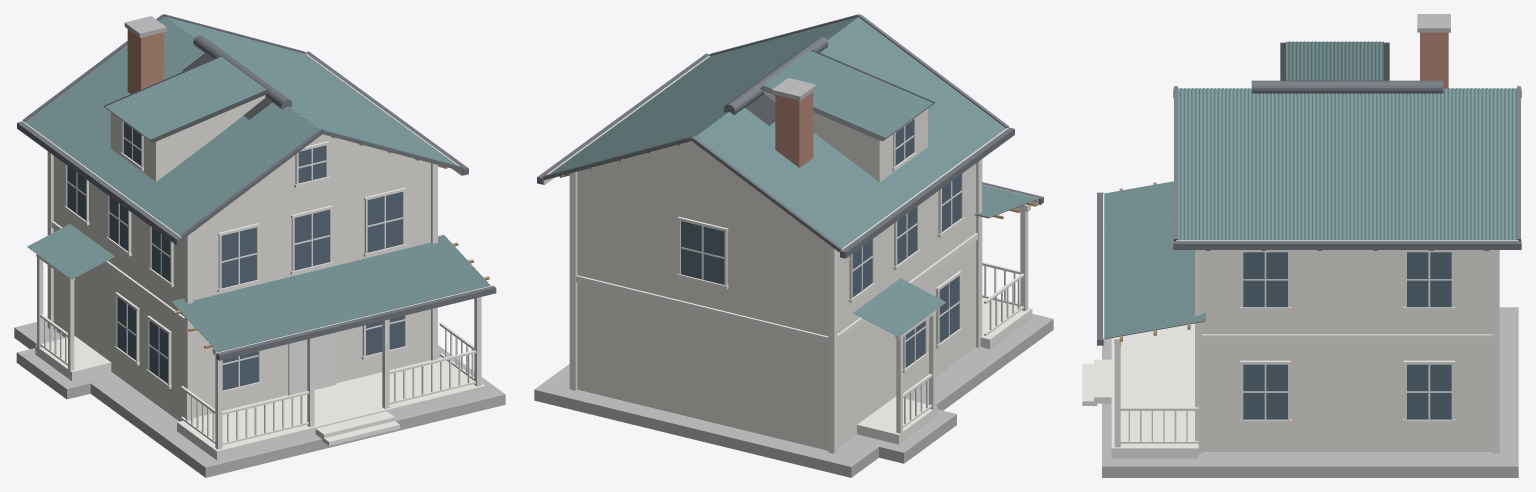
Rendered from Agua_Corr_1220_Compact_Porch_House.glb.
3 renders of one model, left to right at view 1: azimuth 30°, elevation 25°; view 2: azimuth 150°, elevation 25°; view 3: azimuth 270°, elevation 25°, orthographic. The views are drawn at different scales.
Visible parts, largest first — view 1: Main_Walls, Porch_Deck_Front, Foundation_Main, RoofSheet_13, RoofSheet_14, Gable_Wall_Front, RoofSheet_08, RoofSheet_16, RoofSheet_15, RoofSheet_09, Gutter_Porch, Dormer_Cheek_Front (+56 smaller); view 2: Main_Walls, Foundation_Main, Gable_Wall_Back, RoofSheet_14, RoofSheet_08, RoofSheet_09, RoofSheet_16, RoofSheet_15, SecondFloor_BandTrim, RoofSheet_13, RoofSheet_10, Base_Chimney (+39 smaller); view 3: Main_Walls, Foundation_Main, Porch_Deck_Front, RoofSheet_02, RoofSheet_06, RoofSheet_03, RoofSheet_04, RoofSheet_05, RoofSheet_01, RoofSheet_07, Gutter_Right, Ridge_Cap (+26 smaller).
Part boxes in pixels (box(x1,y1,x2,y2)): Main_Walls: box(53, 156, 430, 421); Porch_Deck_Front: box(177, 357, 485, 460); Foundation_Main: box(14, 320, 505, 477); RoofSheet_13: box(137, 102, 298, 220); RoofSheet_14: box(160, 115, 318, 235); Gable_Wall_Front: box(224, 134, 421, 208); RoofSheet_08: box(25, 17, 186, 138); RoofSheet_16: box(128, 73, 266, 139); RoofSheet_15: box(106, 57, 243, 123); RoofSheet_09: box(47, 33, 204, 154); Gutter_Porch: box(216, 285, 496, 360); Dormer_Cheek_Front: box(159, 95, 265, 179); Main_Walls: box(577, 163, 975, 450); Foundation_Main: box(534, 313, 1053, 477); Gable_Wall_Back: box(587, 141, 795, 219); RoofSheet_14: box(835, 17, 1005, 145); RoofSheet_08: box(695, 121, 863, 248); RoofSheet_09: box(716, 107, 887, 232); RoofSheet_16: box(787, 50, 932, 120); RoofSheet_15: box(763, 68, 909, 137); SecondFloor_BandTrim: box(576, 233, 977, 343); RoofSheet_13: box(820, 34, 982, 162); RoofSheet_10: box(770, 122, 910, 214); Base_Chimney: box(775, 92, 813, 167); Main_Walls: box(1202, 250, 1492, 451); Foundation_Main: box(1102, 307, 1518, 477); Porch_Deck_Front: box(1111, 323, 1198, 458); RoofSheet_02: box(1225, 88, 1273, 240); RoofSheet_06: box(1421, 88, 1469, 240); RoofSheet_03: box(1274, 93, 1322, 240); RoofSheet_04: box(1323, 93, 1371, 240); RoofSheet_05: box(1372, 93, 1420, 240); RoofSheet_01: box(1178, 88, 1224, 240); RoofSheet_07: box(1470, 88, 1516, 240); Gutter_Right: box(1173, 241, 1521, 249); Ridge_Cap: box(1251, 80, 1443, 93).
Size of the model in its own units: 8.2 by 7.71 by 8.85.
